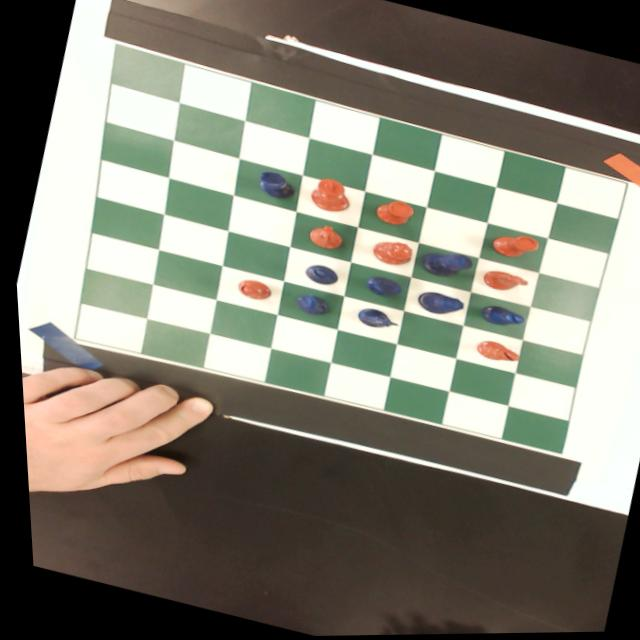B: (470, 302, 523, 334), (296, 260, 338, 290)
K: (411, 245, 474, 286)
N: (348, 305, 400, 336), (284, 289, 332, 322)
Q: (407, 286, 463, 322)
R: (250, 168, 297, 203), (359, 272, 402, 303)
b: (467, 338, 518, 370), (230, 276, 269, 304)
k: (301, 174, 353, 218)
n: (472, 266, 528, 300), (299, 221, 346, 256)
q: (364, 235, 414, 271)
r: (481, 227, 538, 266), (366, 195, 413, 231)
